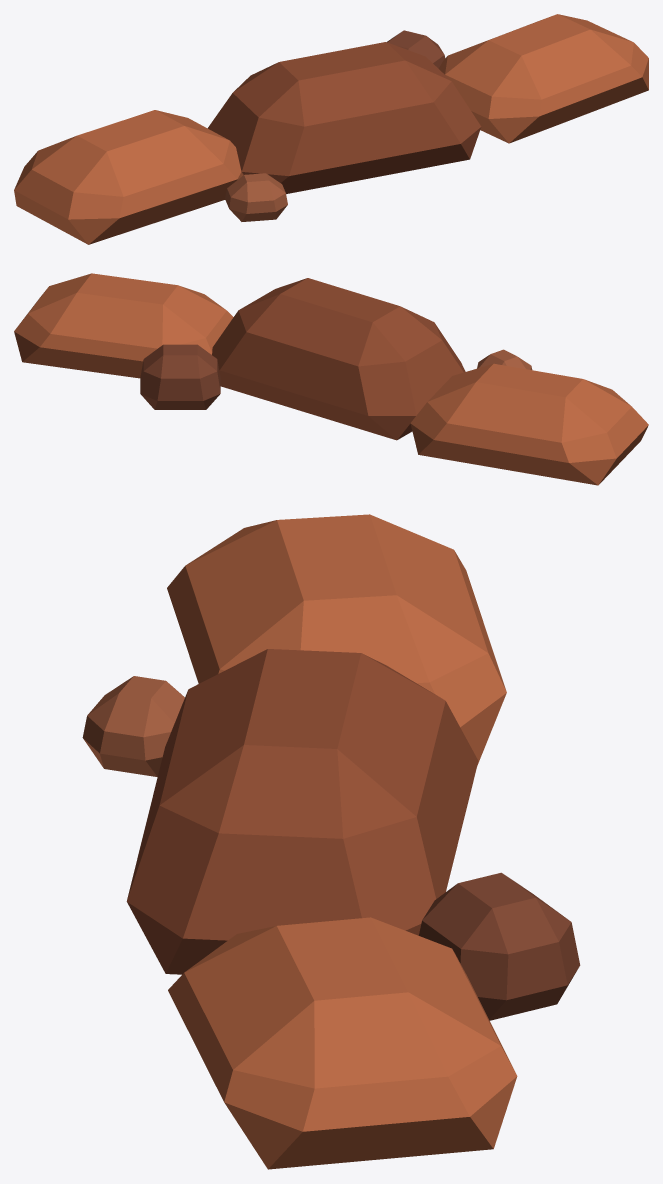
Rendered from ab_furrow_berm.glb.
The picture shows the model from 3 angles, top to bottom: view 1: azimuth 30°, elevation 25°; view 2: azimuth 150°, elevation 25°; view 3: azimuth 270°, elevation 25°; orthographic projection. The views are drawn at different scales.
Parts seen in each view (by area): view 1: ab_furrow_berm; view 2: ab_furrow_berm; view 3: ab_furrow_berm.
Boxes of the visible parts, x1,y1,x2,y2 form: ab_furrow_berm: (14, 14, 648, 244); ab_furrow_berm: (14, 273, 648, 485); ab_furrow_berm: (82, 514, 580, 1169).
Bounding box in the file's own units: 2.42 × 0.36 × 0.8711.
